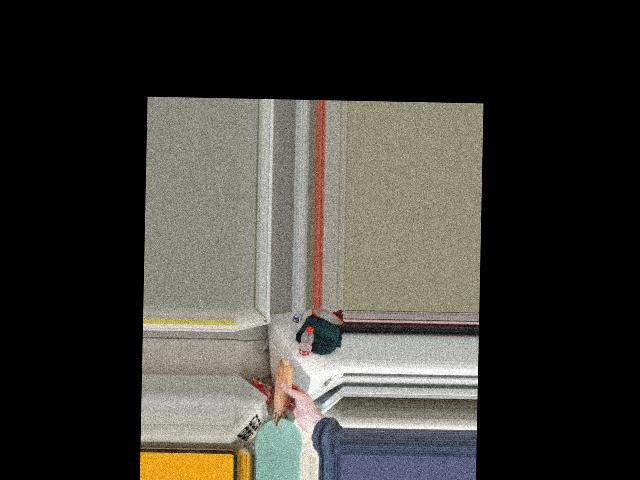sweet_potato: (268, 355, 297, 427)
